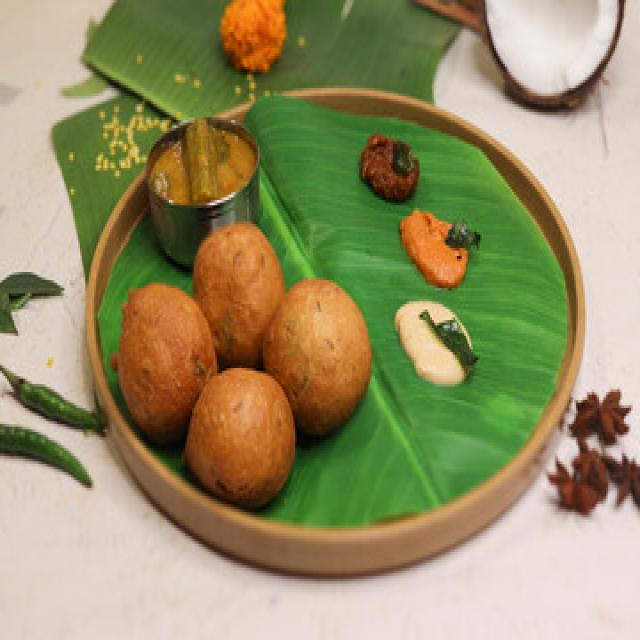BONDA: (112, 236, 367, 509)
PICKLE: (353, 122, 432, 215)
RED CHUTNEY: (399, 209, 473, 298)
SAMBAR: (141, 117, 257, 213)
WHITE CHUTNEY: (393, 296, 477, 391)
